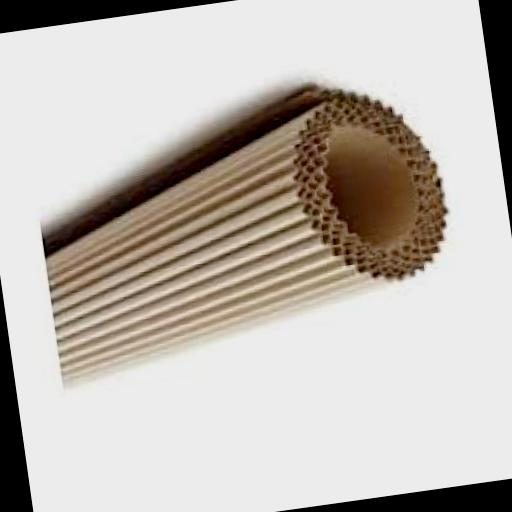cardboard: (28, 70, 467, 392)
